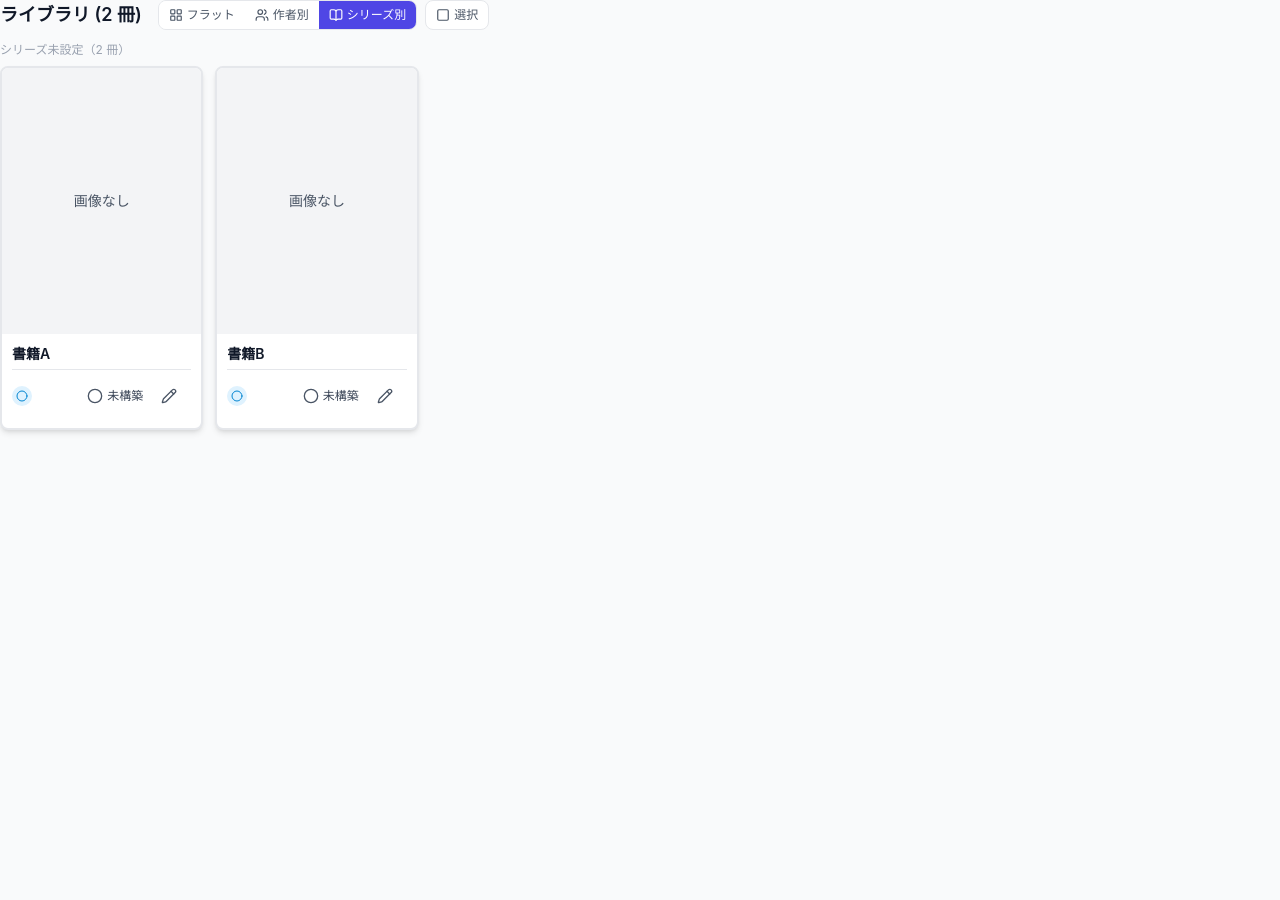
Test case: LibrarySection の小説一括操作 › 作者を明示選択すると書籍順に更新し、全件成功後だけ再取得して選択を解除する
Click the button "選択" at (457, 15), box [425,0,489,30]
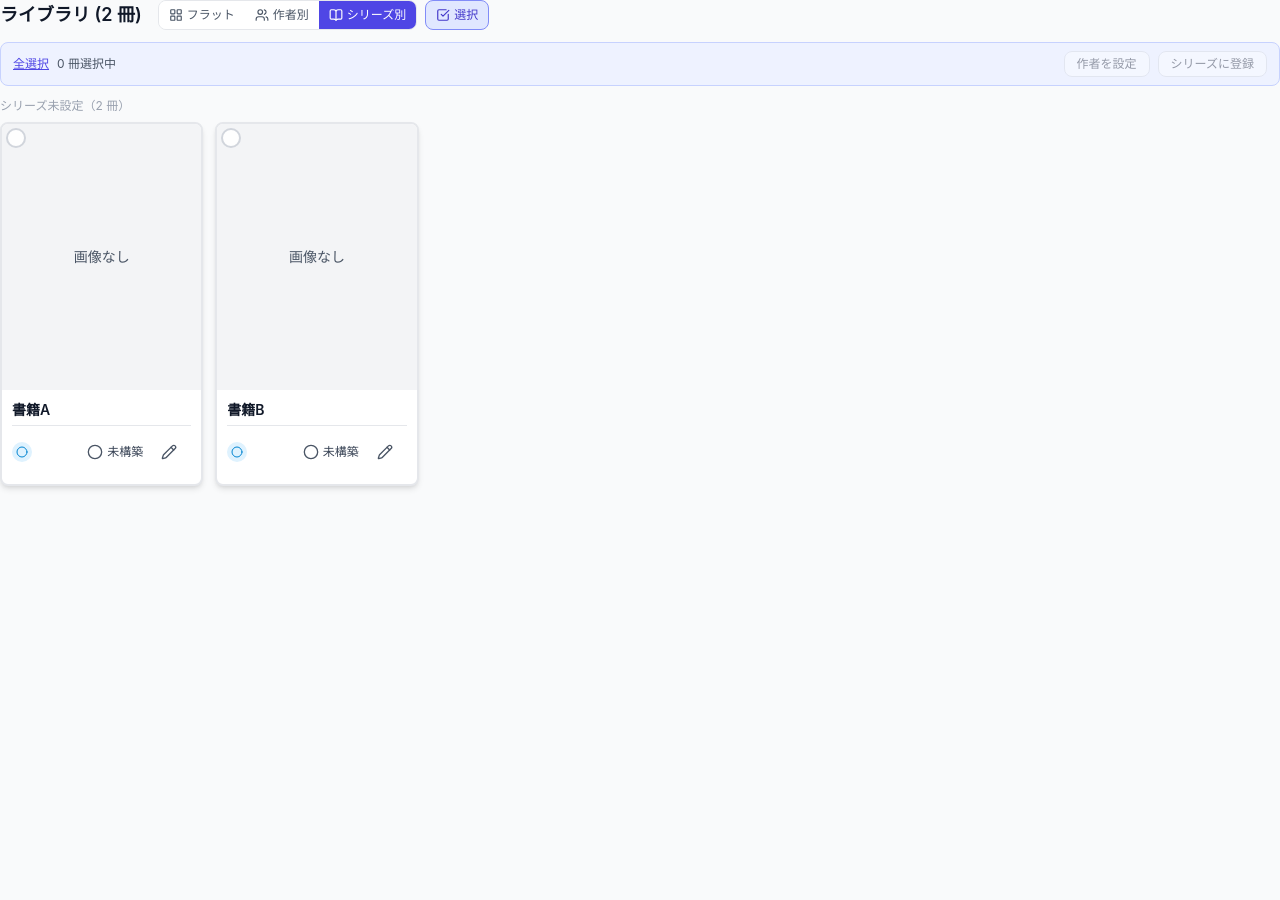
Click the button "全選択" at (31, 64), box [13,56,49,72]
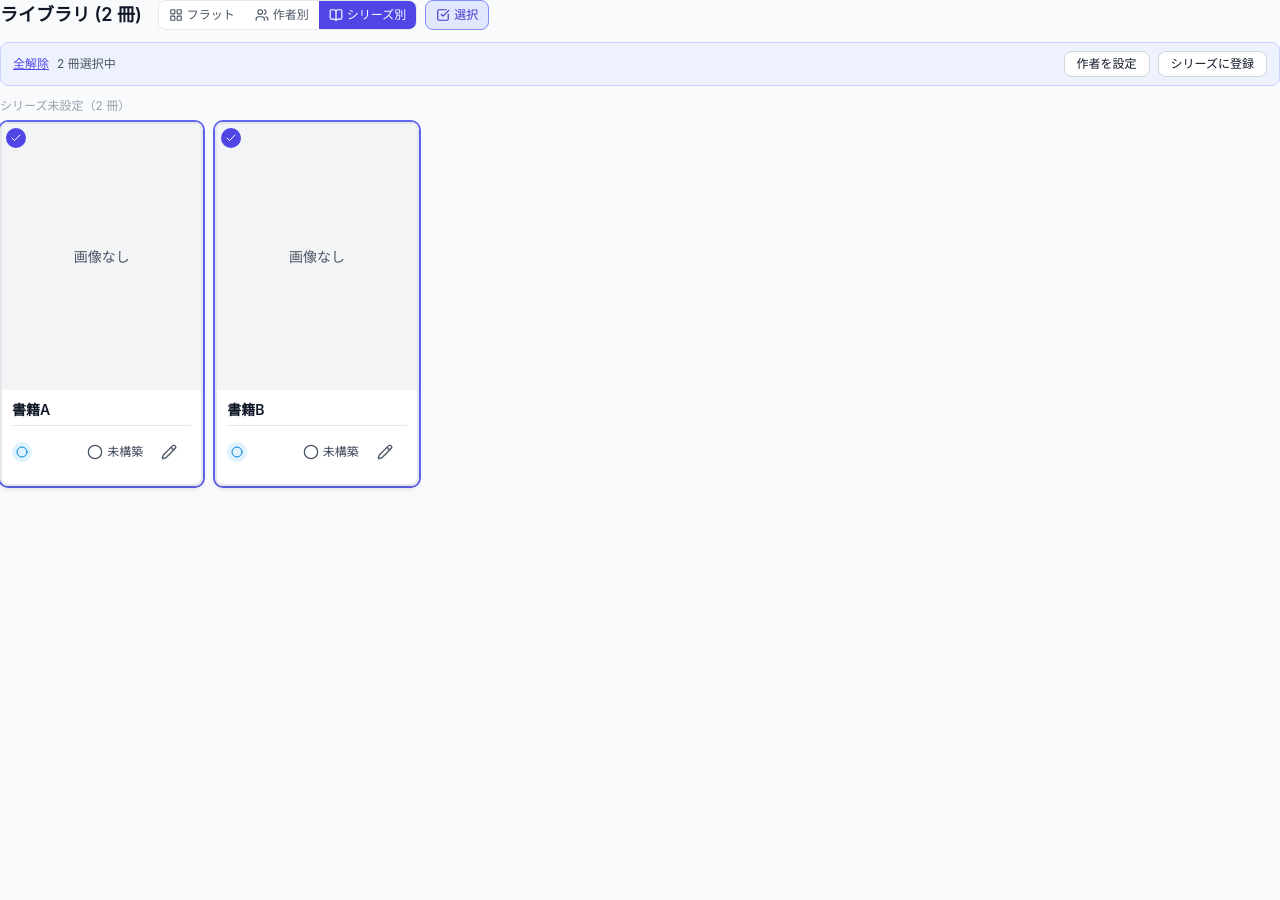
Click the button "作者を設定" at (1107, 64), box [1064,51,1150,77]
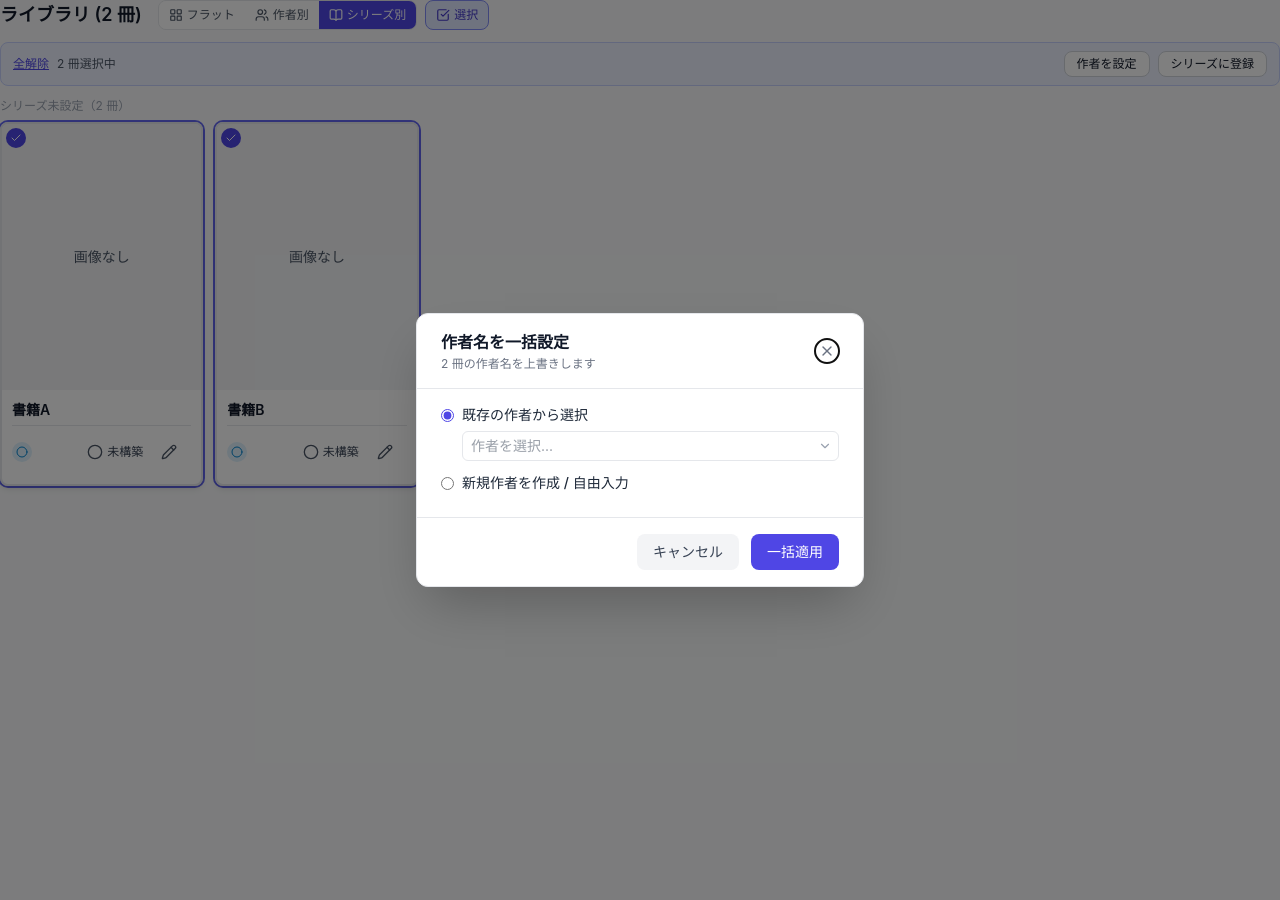
Result: the dialog "作者名を一括設定" is shown at [416,313,864,587]
Focus the dropdown at (638, 446), box [463,432,812,460]
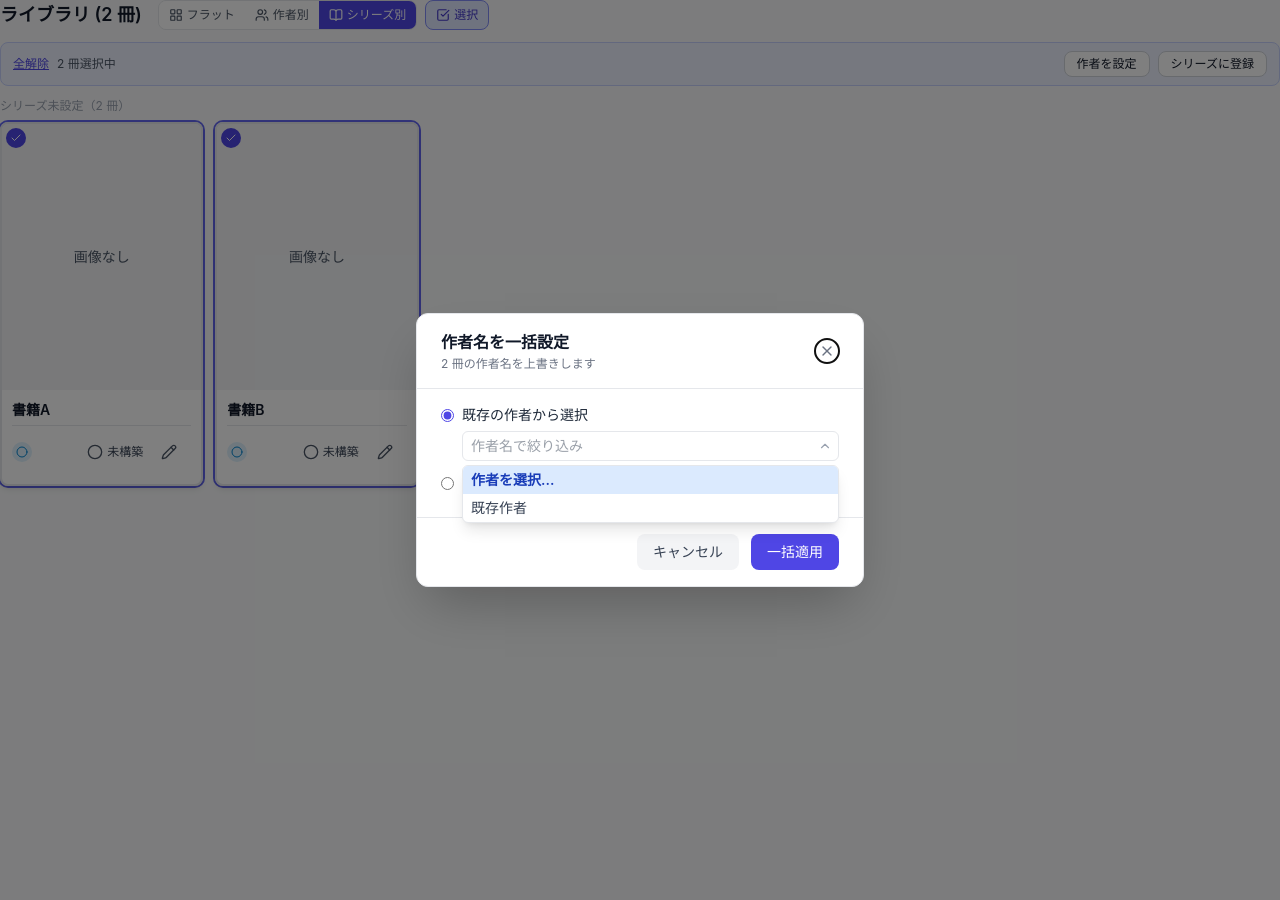
Press the mouse on the option "既存作者" at (499, 508), box [471,499,527,516]
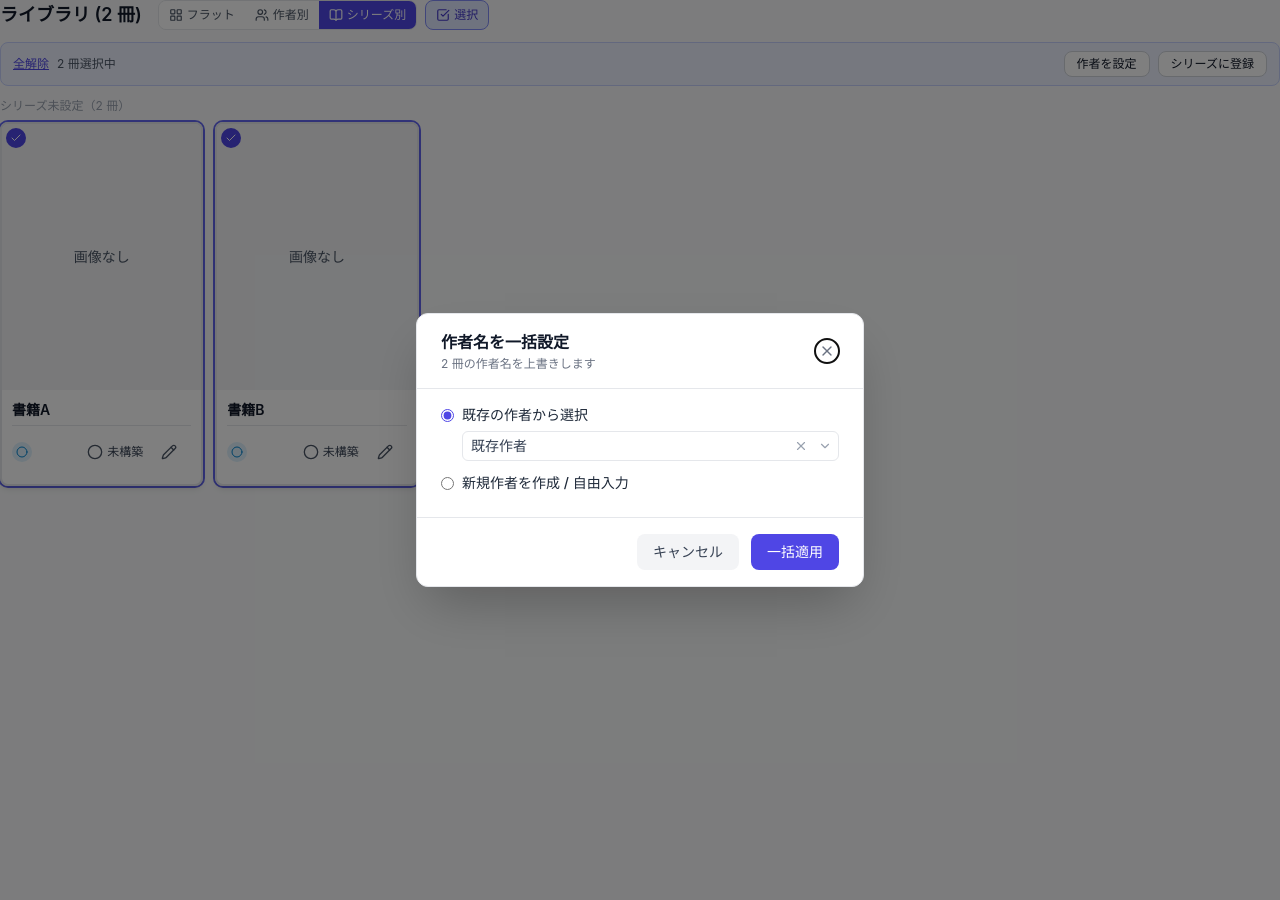
Click the button "一括適用" at (795, 552), box [751,534,839,570]
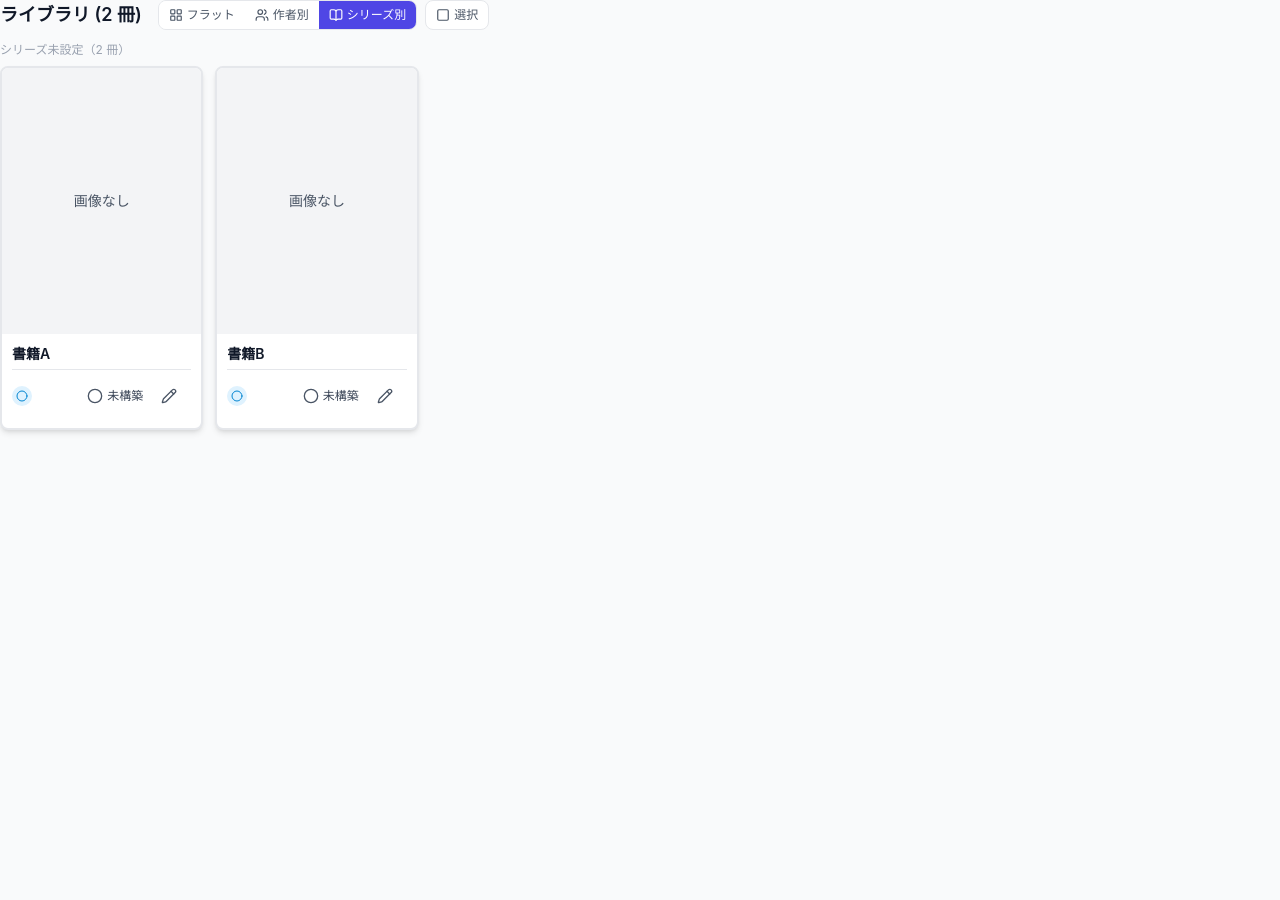
Expected: the button "選択" is shown, [425,0,489,30]
Result: the heading "作者名を一括設定" is gone
